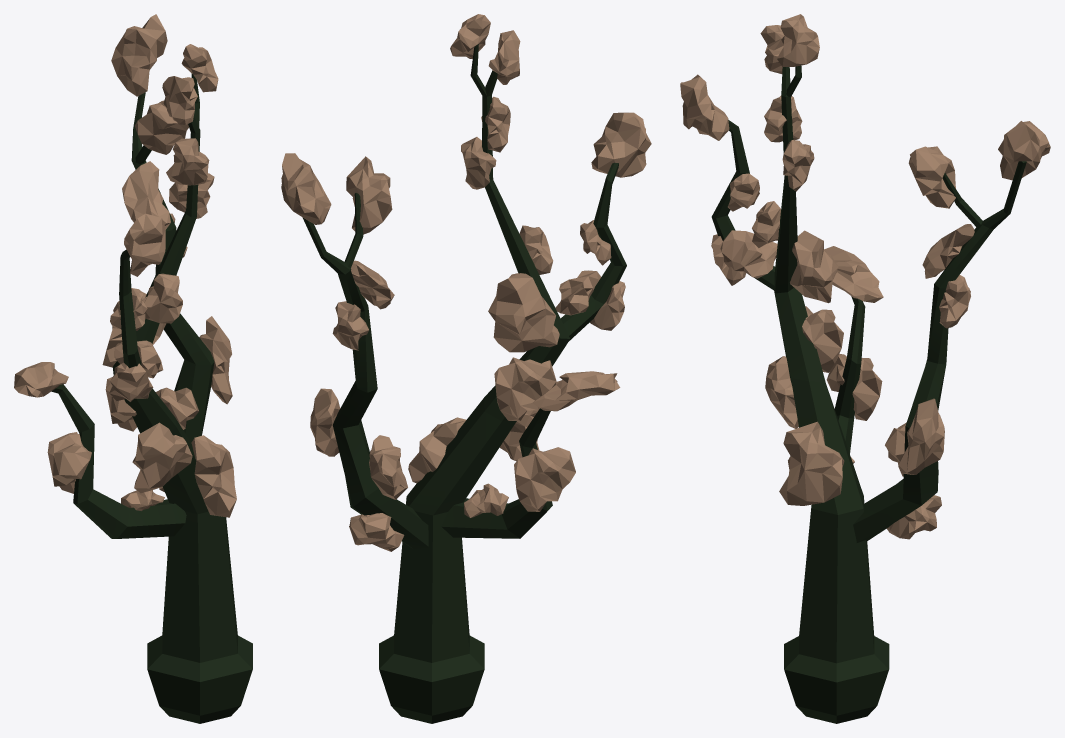
File: peach_tree2.FBX
3 renders of one model, left to right at view 1: azimuth 30°, elevation 25°; view 2: azimuth 150°, elevation 25°; view 3: azimuth 270°, elevation 25°, orthographic.
Visible parts, largest first — view 1: peach_tree2; view 2: peach_tree2; view 3: peach_tree2.
Boxes of the visible parts, left/top/right/bottom form: peach_tree2: left=14, top=14, right=252, bottom=723; peach_tree2: left=281, top=14, right=651, bottom=723; peach_tree2: left=680, top=14, right=1050, bottom=723.
Size of the model in its own units: 170 by 211 by 426.
